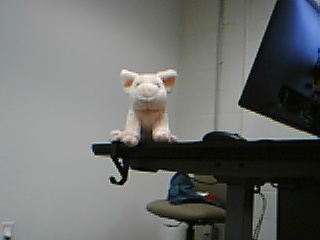piggy: (108, 67, 182, 147)
